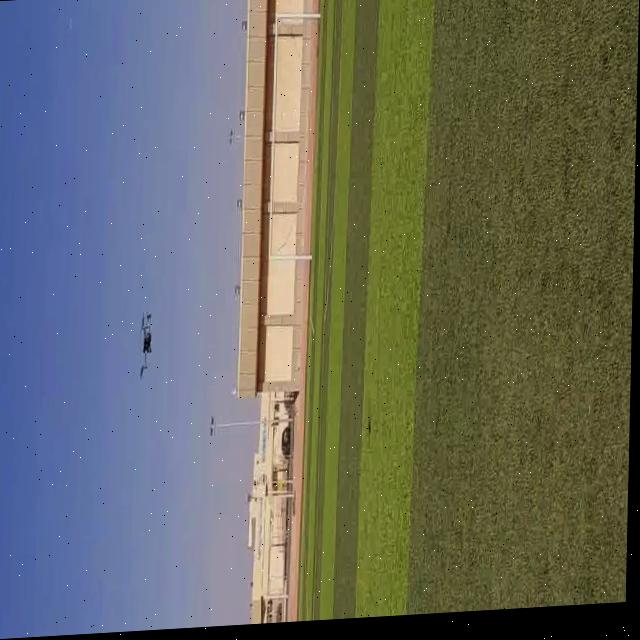drone: (134, 301, 162, 384)
